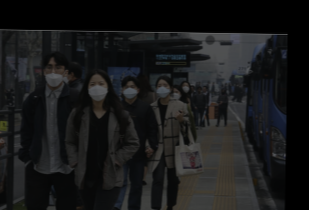mask_weared_incorrect: (44, 61, 66, 87)
with_mask: (87, 79, 109, 102), (155, 81, 171, 98), (122, 83, 137, 99), (171, 89, 181, 100), (181, 83, 190, 94), (220, 89, 226, 94)
without_mask: (196, 87, 201, 93), (202, 86, 207, 92)
